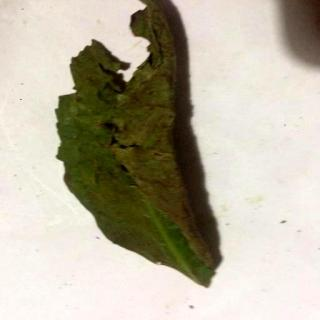Red Leaf Spot: (56, 1, 218, 289)
